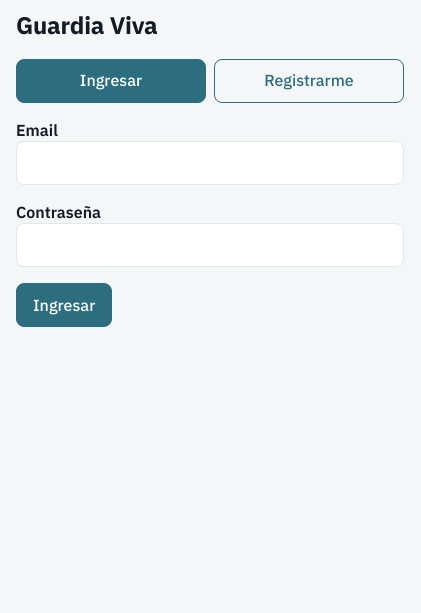
Test: Acceso › la contraseña exige 6 caracteres en el registro y avisa sin enviar
Click the tab "Registrarme" at [309, 81], box [214, 59, 404, 103]
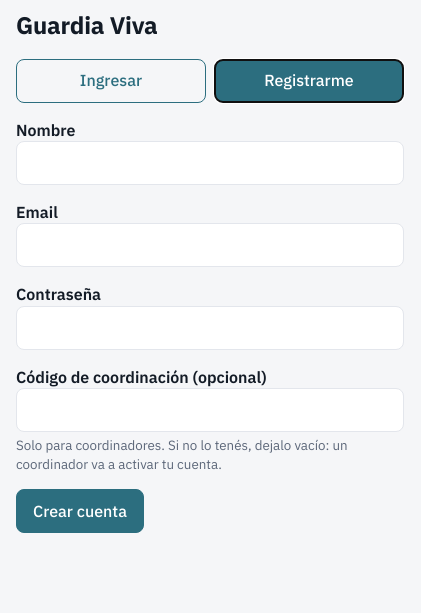
Type "Ana" into the field labelled "Nombre" at [210, 163], box [16, 141, 404, 185]
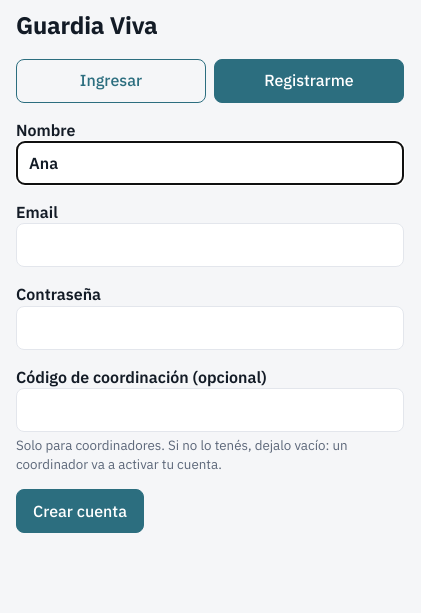
Type "ana@x.com" into the field labelled "Email" at [210, 245], box [16, 223, 404, 267]
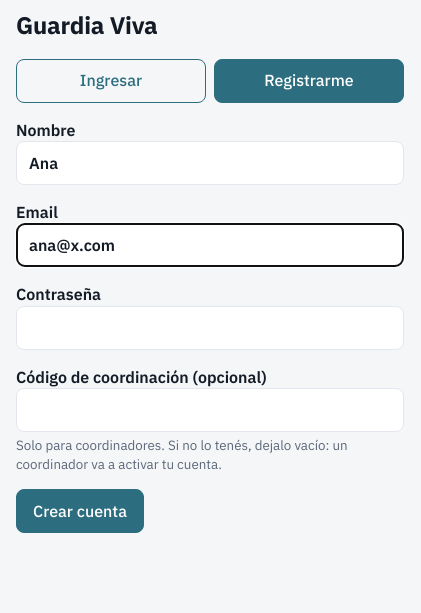
Type "123" into the password field labelled "Contraseña" at [210, 328], box [16, 306, 404, 350]
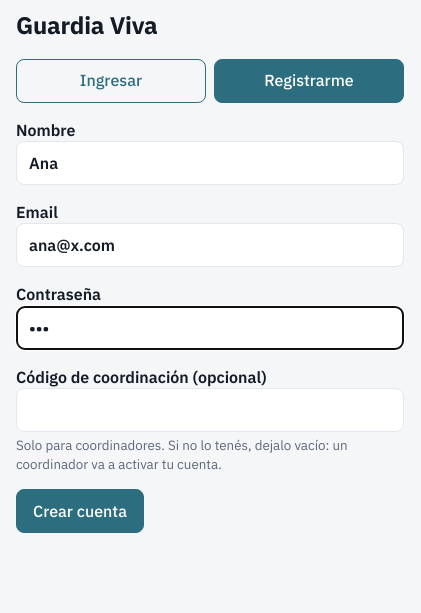
Click the button "Crear cuenta" at [80, 512], box [16, 490, 144, 534]
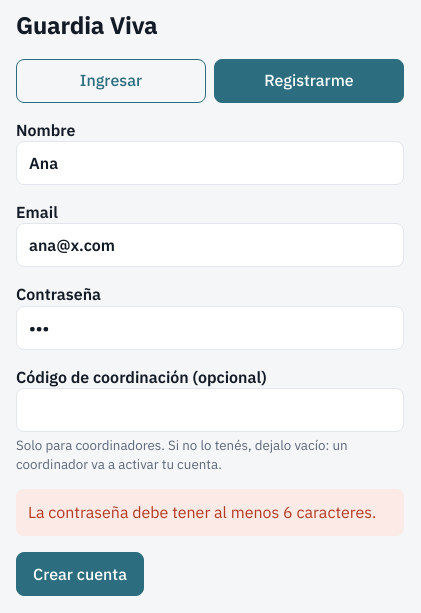
Check: the message shows "al menos 6 caracteres", box [28, 502, 376, 522]
